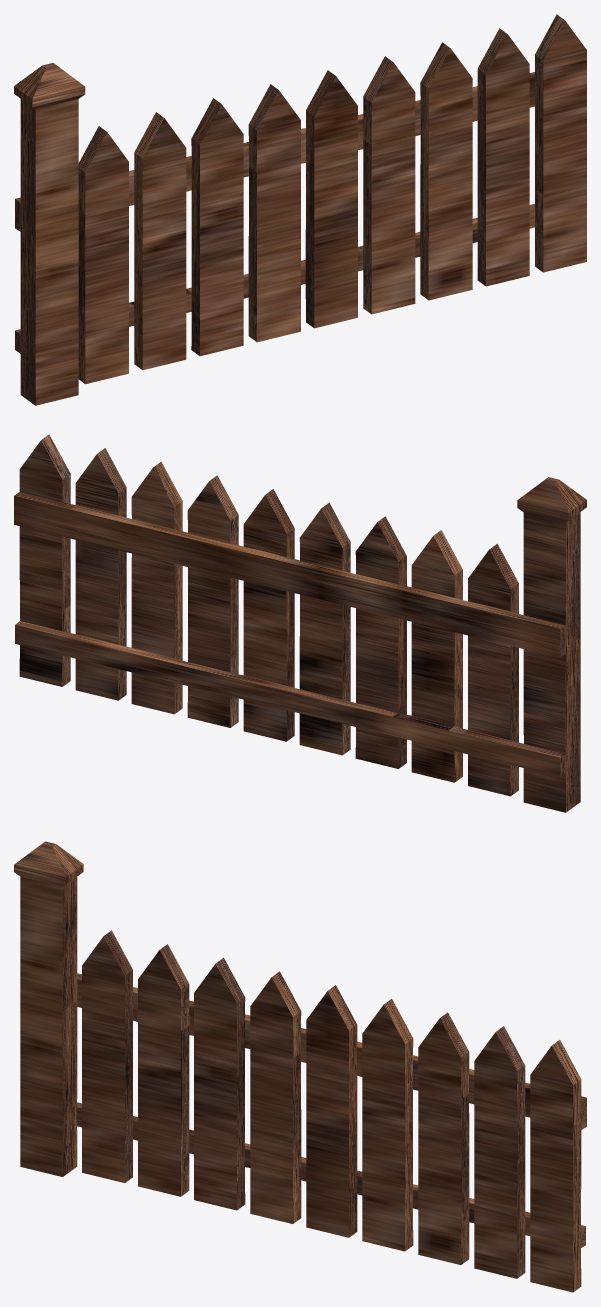
File: Reja_V002_Finish.fbx
3 renders of one model, top to bottom at view 1: azimuth 30°, elevation 25°; view 2: azimuth 150°, elevation 25°; view 3: azimuth 330°, elevation 25°, orthographic. The views are drawn at different scales.
Parts seen in each view (by area): view 1: Cube.012; view 2: Cube.012; view 3: Cube.012.
Part boxes in pixels (x1=…): Cube.012: x1=14, y1=14, x2=586, y2=405; Cube.012: x1=14, y1=434, x2=586, y2=812; Cube.012: x1=14, y1=841, x2=586, y2=1292.
Bounding box in the file's own units: 418 × 234 × 28.66.
